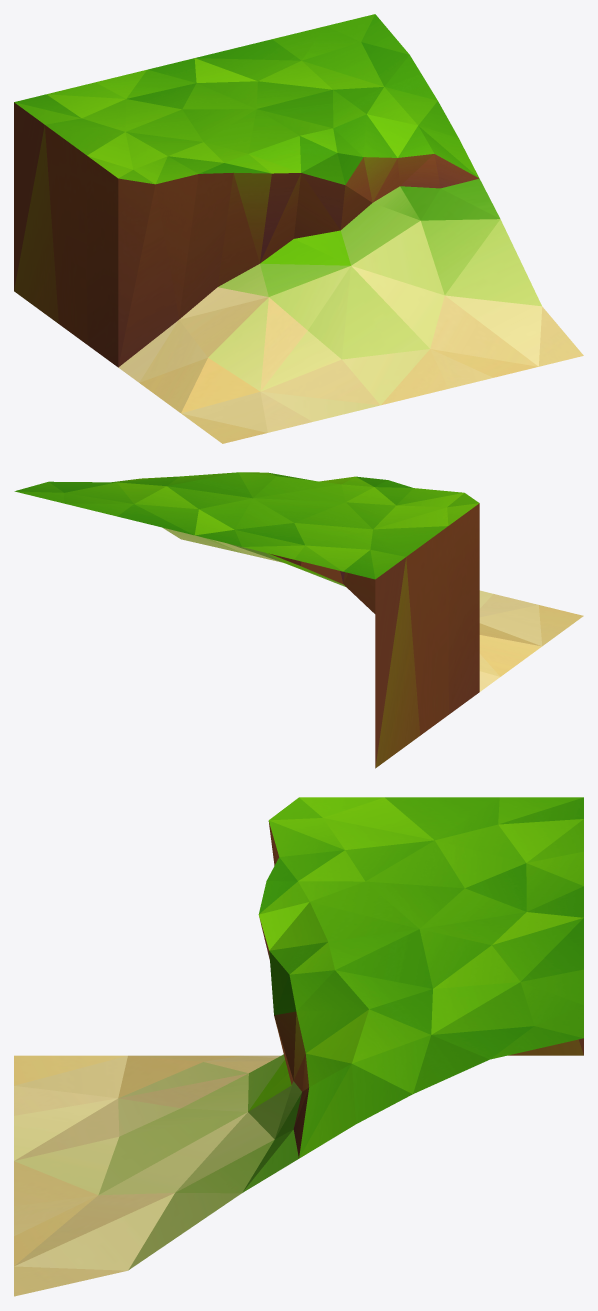
Rendered from GL-Terrain-part-16-LOD2.fbx.
3 views of the same model, one above another, from view 1: azimuth 30°, elevation 25°; view 2: azimuth 150°, elevation 25°; view 3: azimuth 270°, elevation 25° (orthographic). The views are drawn at different scales.
Parts seen in each view (by area): view 1: GL_Terrain_part_16; view 2: GL_Terrain_part_16; view 3: GL_Terrain_part_16.
Boxes of the visible parts, x1,y1,x2,y2 form: GL_Terrain_part_16: [14, 14, 583, 443]; GL_Terrain_part_16: [14, 472, 583, 768]; GL_Terrain_part_16: [14, 797, 583, 1296].
Size of the model in its own units: 6 by 3 by 6.
